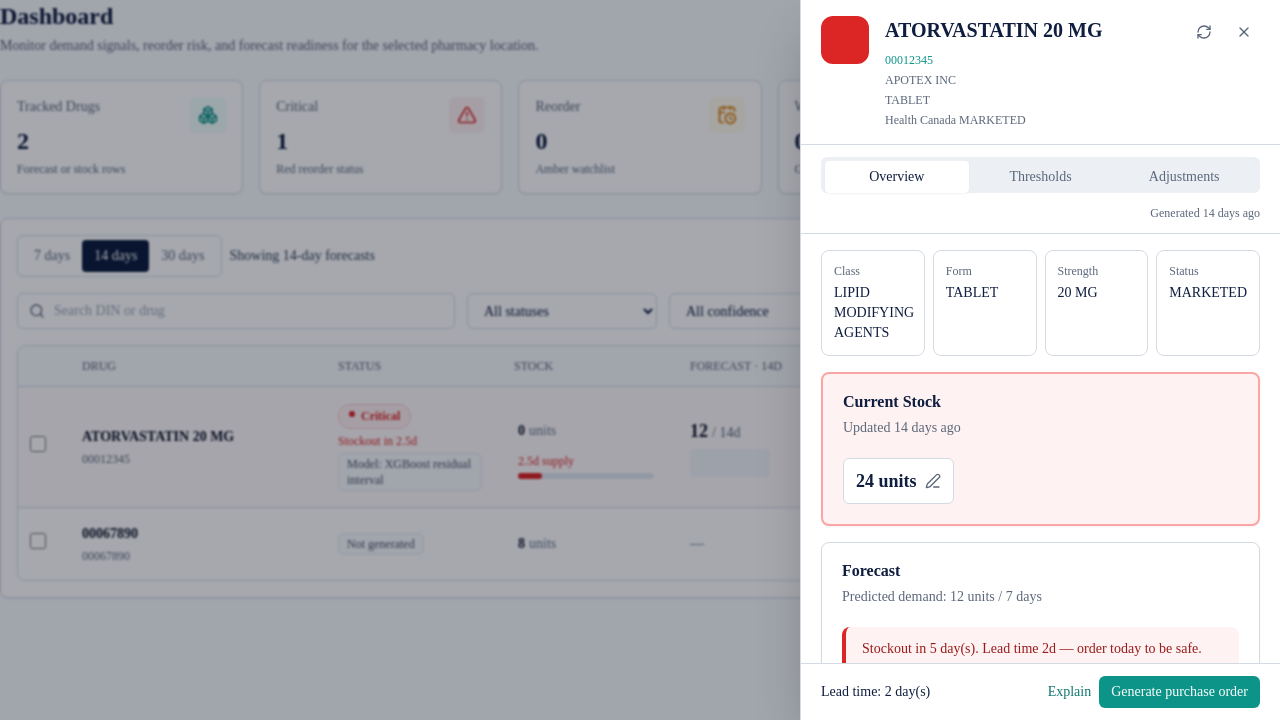
Test: Dashboard route › reuses the explain cache across the dashboard row and side panel
Expected: the dialog is shown, [800, 0, 1279, 719]
Click the button "Explain": (1069, 692) [1048, 676, 1091, 708]
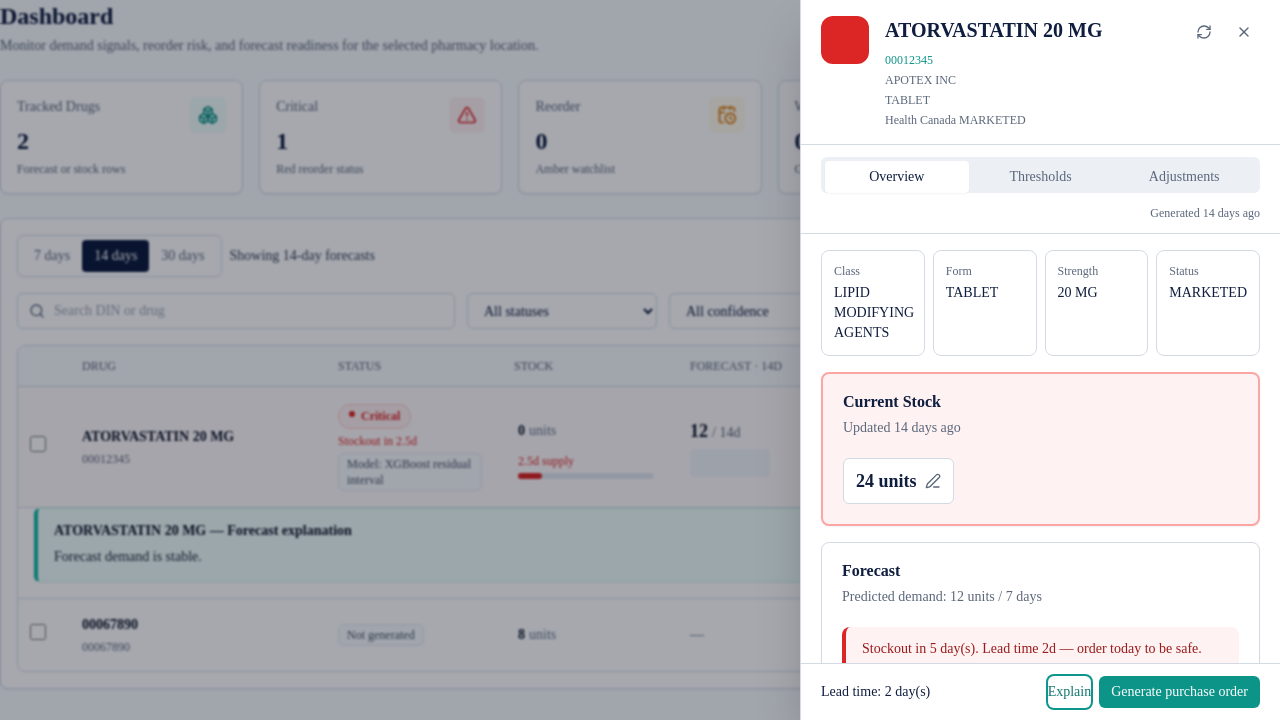
Expected: the text "Forecast demand is stable." is shown 2 times
